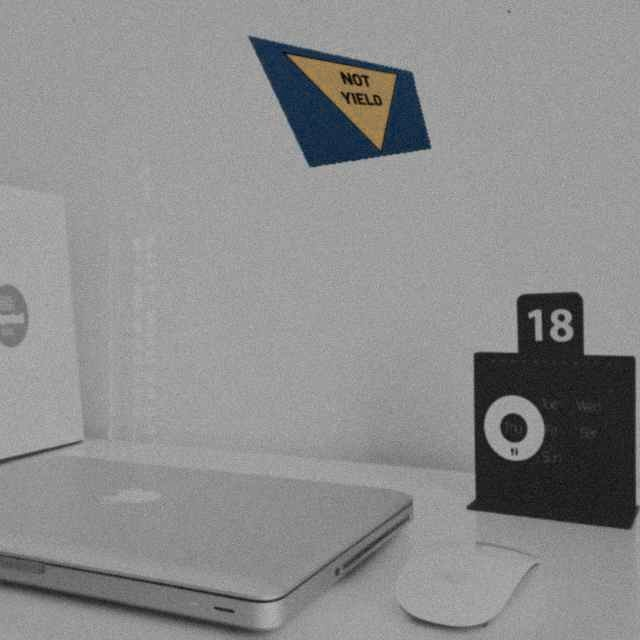NOT_YIELD: (280, 52, 419, 161)
